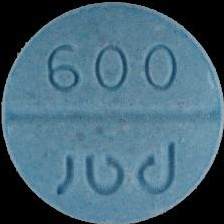42291-350: (0, 0, 224, 224)
